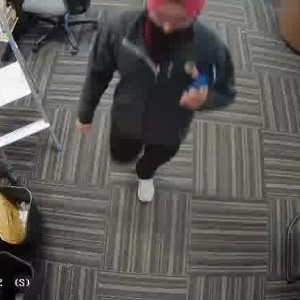person: (89, 0, 221, 220)
